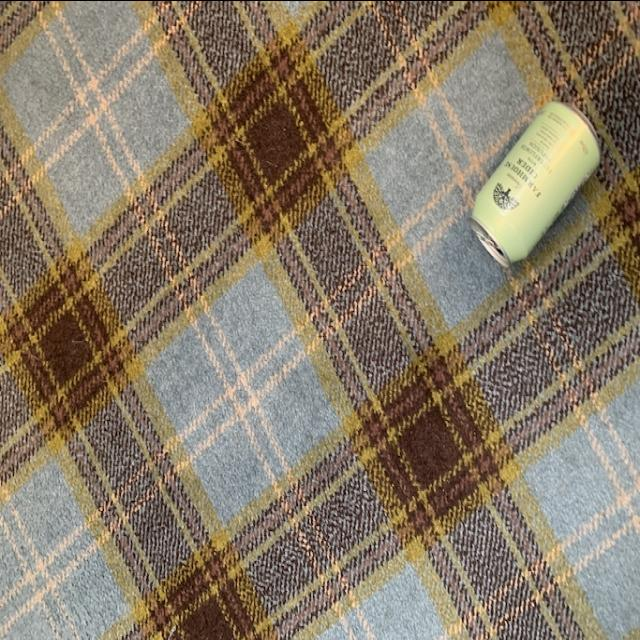litter: (462, 95, 602, 270)
